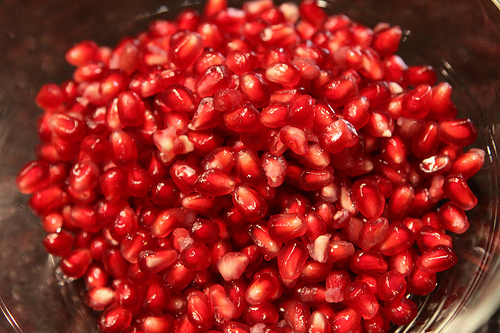pomogranate: (14, 0, 488, 332)
